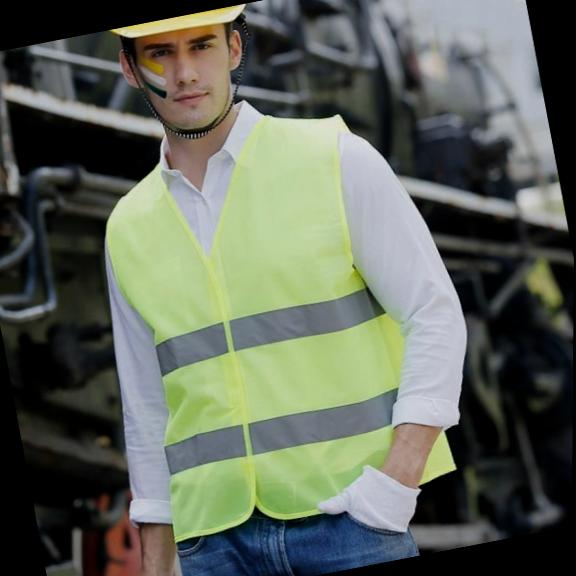safety_vest: (76, 99, 418, 550)
